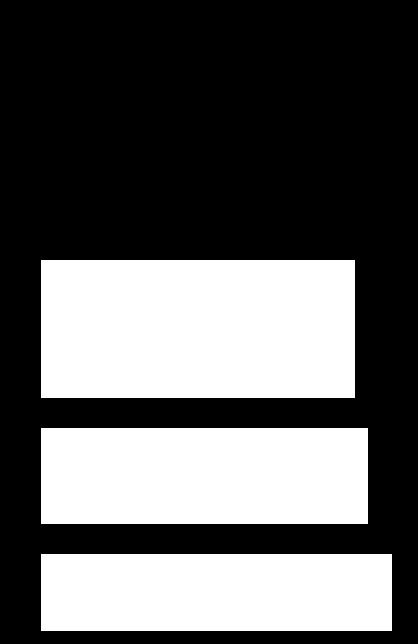table: (41, 260, 354, 397), (41, 428, 367, 523), (41, 554, 391, 630)
